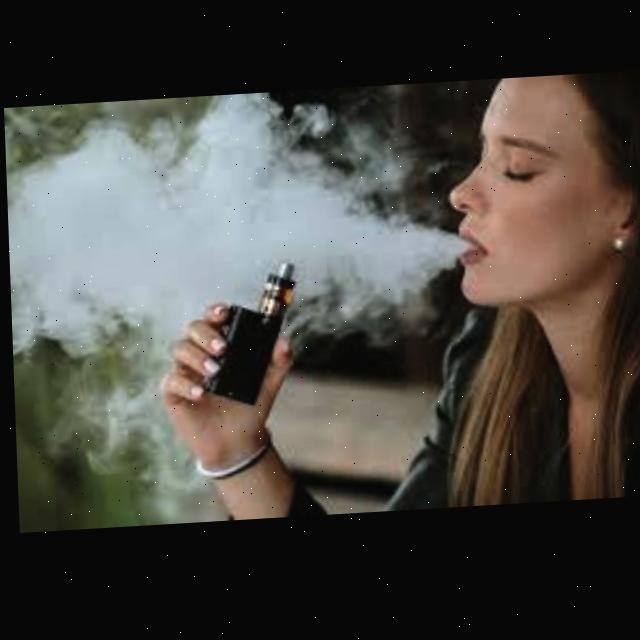vape: (200, 262, 300, 408)
